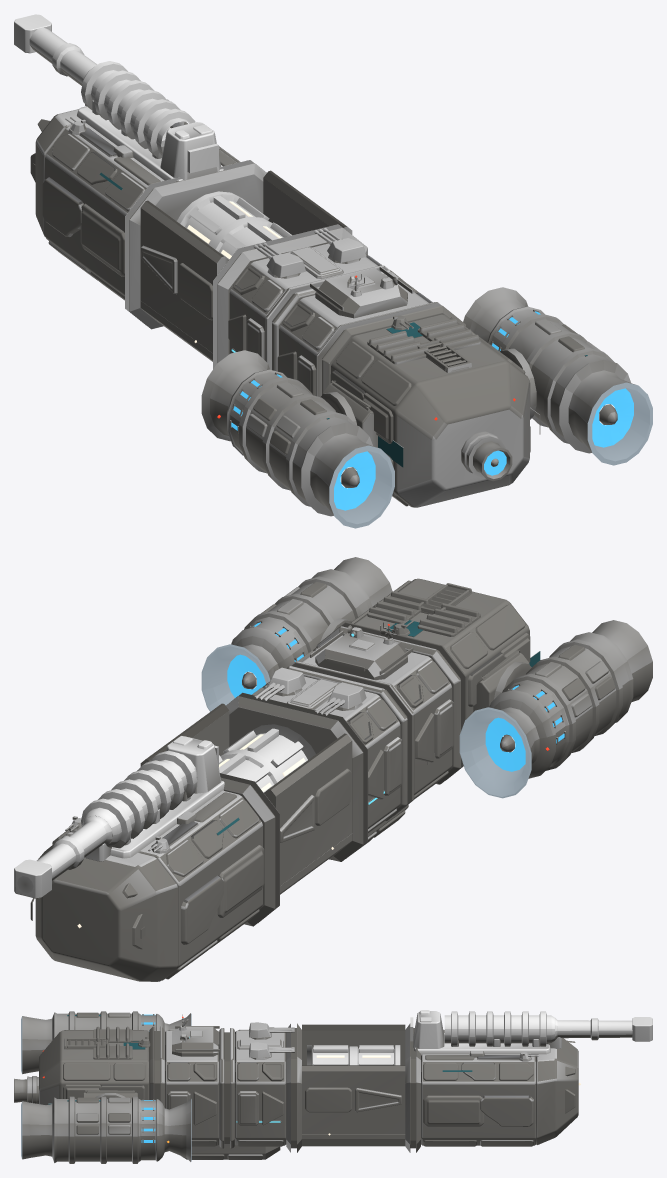
File: troyden_cruiser.glb
3 views of the same model, one above another, from view 1: azimuth 30°, elevation 25°; view 2: azimuth 150°, elevation 25°; view 3: azimuth 270°, elevation 25° (orthographic). The views are drawn at different scales.
Visible parts, largest first — view 1: hull, engines, turret_0, reactor, aux_0, aux_1; view 2: hull, engines, turret_0, reactor, aux_0, aux_1; view 3: hull, engines, turret_0, reactor, aux_0, aux_1.
Boxes of the visible parts, x1,y1,x2,y2 form: hull: (30,109,540,507); engines: (201,287,652,528); turret_0: (14,14,224,182); reactor: (176,191,291,259); aux_0: (253,242,305,278); aux_1: (314,227,366,263); hull: (30,578,540,981); engines: (201,557,652,798); turret_0: (14,736,224,898); reactor: (219,724,315,792); aux_0: (314,682,366,717); aux_1: (253,667,305,702); hull: (39,1014,580,1159); engines: (14,1011,191,1163); turret_0: (410,1010,652,1055); reactor: (307,1045,400,1065); aux_0: (249,1022,294,1039); aux_1: (249,1042,294,1059).
Size of the model in its own units: 52.96 by 31.11 by 130.
Materials: 11 (4 with a texture image).
